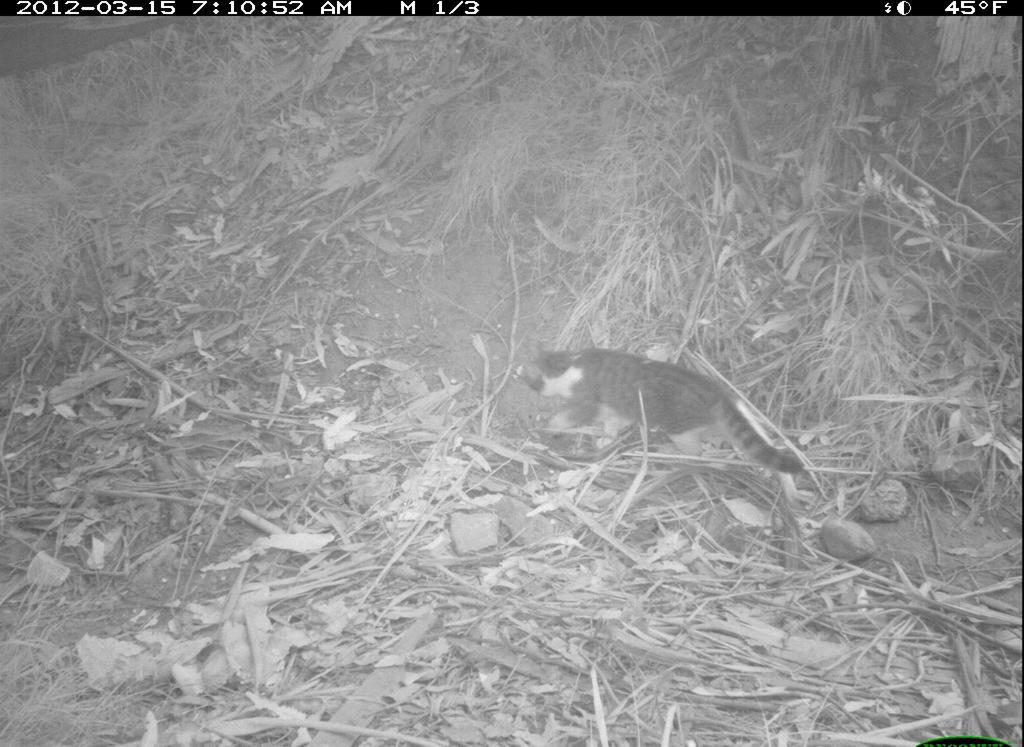cat: (511, 332, 825, 491)
